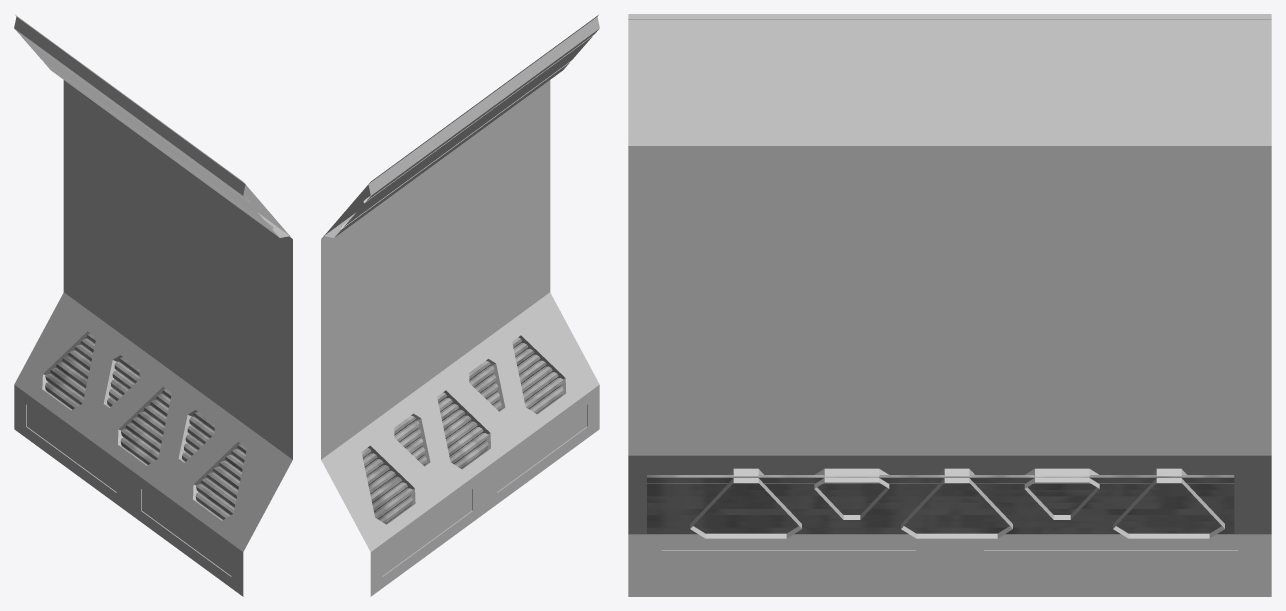
File: interior_wall_panel.obj
The picture shows the model from 3 angles, left to right: view 1: azimuth 30°, elevation 25°; view 2: azimuth 150°, elevation 25°; view 3: azimuth 270°, elevation 25°; orthographic projection. The views are drawn at different scales.
Visible parts, largest first — view 1: Plane, Cylinder; view 2: Plane, Cylinder; view 3: Plane, Cylinder.
Boxes of the visible parts, x1=… form: Plane: x1=14, y1=15, x2=292, y2=596; Cylinder: x1=45, y1=333, x2=246, y2=519; Plane: x1=321, y1=15, x2=599, y2=596; Cylinder: x1=361, y1=337, x2=563, y2=523; Plane: x1=628, y1=14, x2=1271, y2=596; Cylinder: x1=647, y1=475, x2=1234, y2=533.
Size of the model in its own units: 0.5053 by 4 by 4.
